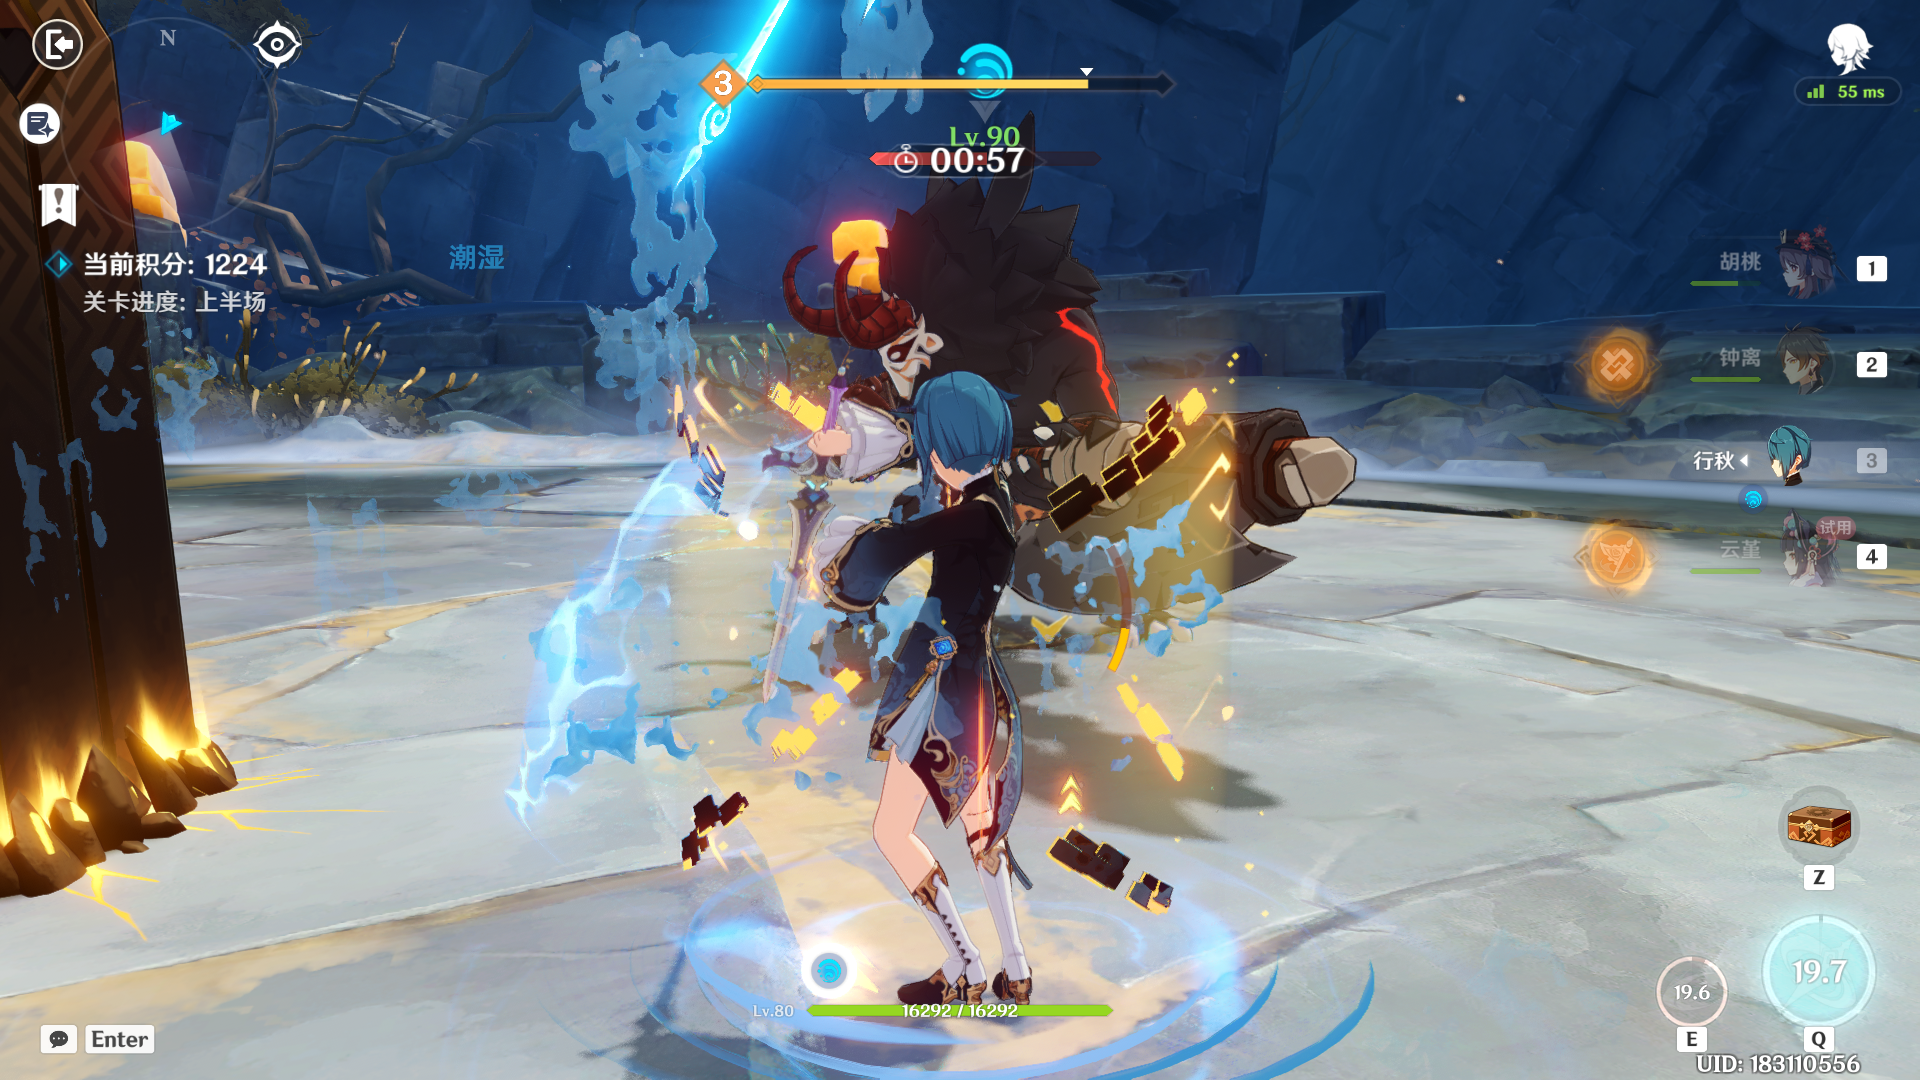caster: (741, 128, 1312, 684)
character: (748, 348, 1116, 1030)
